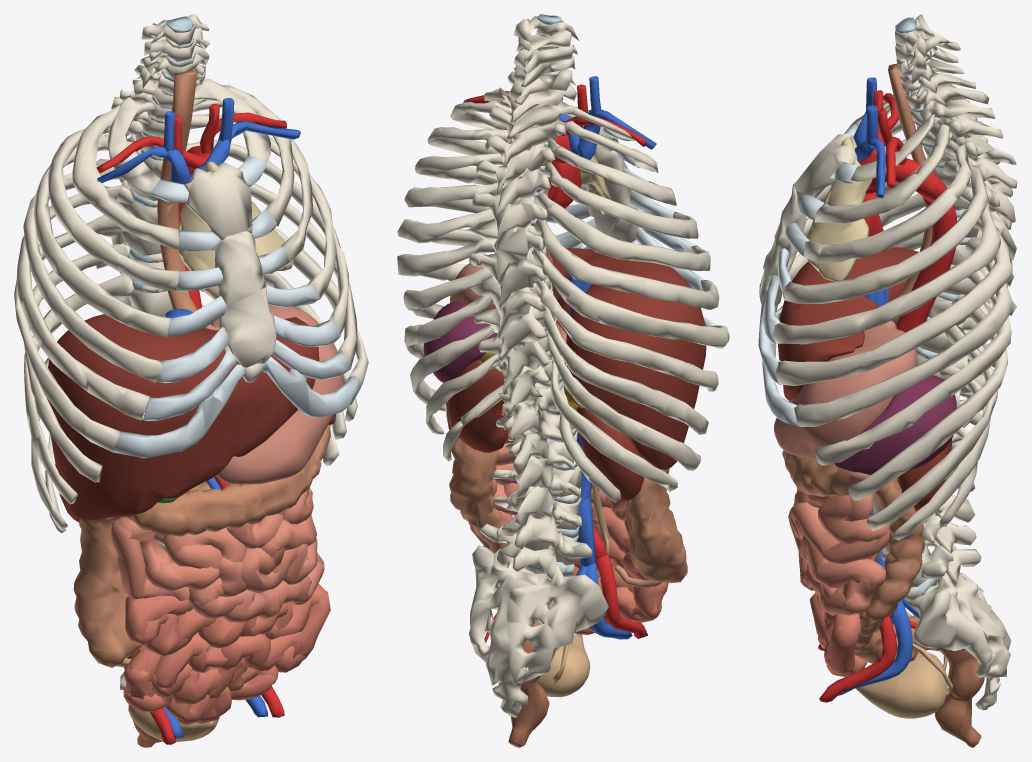
File: anatomyverse-organs.glb
3 renders of one model, left to right at view 1: azimuth 30°, elevation 25°; view 2: azimuth 150°, elevation 25°; view 3: azimuth 270°, elevation 25°, orthographic. The views are drawn at different scales.
Parts seen in each view (by area): view 1: rib_cage_R, liver, ileum, jejunum, rib_cage_L, large_intestine, costal_cartilages_R, sternum, vertebral_column, costal_cartilages_L, stomach, oesophagus (+9 smaller); view 2: vertebral_column, rib_cage_R, rib_cage_L, liver, large_intestine, ileum, kidney_L, costal_cartilages_R, kidney_R, sternum, spleen, urinary_bladder (+10 smaller); view 3: rib_cage_L, vertebral_column, jejunum, large_intestine, stomach, liver, costal_cartilages_L, spleen, sternum, urinary_bladder, aorta, rectum (+11 smaller).
Boxes of the visible parts, x1,y1,x2,y2 form: rib_cage_R: (14, 97, 179, 533); liver: (47, 314, 319, 520); ileum: (123, 584, 330, 724); jejunum: (110, 488, 324, 622); rib_cage_L: (185, 78, 368, 465); large_intestine: (73, 425, 330, 667); costal_cartilages_R: (114, 178, 245, 458); sternum: (184, 162, 276, 382); vertebral_column: (95, 14, 209, 689); costal_cartilages_L: (238, 156, 360, 417); stomach: (206, 305, 343, 484); oesophagus: (157, 70, 206, 327); vertebral_column: (468, 16, 608, 717); rib_cage_R: (533, 106, 729, 502); rib_cage_L: (397, 88, 511, 461); liver: (549, 248, 706, 469); large_intestine: (445, 401, 687, 607); ileum: (470, 500, 668, 635); kidney_L: (448, 359, 508, 452); costal_cartilages_R: (603, 128, 717, 326); kidney_R: (576, 407, 643, 501); sternum: (572, 106, 638, 242); spleen: (423, 301, 497, 382); urinary_bladder: (537, 634, 590, 697); rib_cage_L: (772, 109, 1012, 540); vertebral_column: (872, 14, 1017, 710); jejunum: (788, 488, 889, 615); large_intestine: (782, 450, 931, 663); stomach: (774, 321, 917, 458); liver: (778, 247, 918, 400); costal_cartilages_L: (758, 163, 858, 426); spleen: (834, 375, 956, 474); sternum: (760, 133, 857, 312); urinary_bladder: (855, 652, 947, 718); aorta: (859, 129, 956, 515); rectum: (930, 648, 984, 747).
Size of the model in its own units: 0.3007 by 0.7041 by 0.2286.
